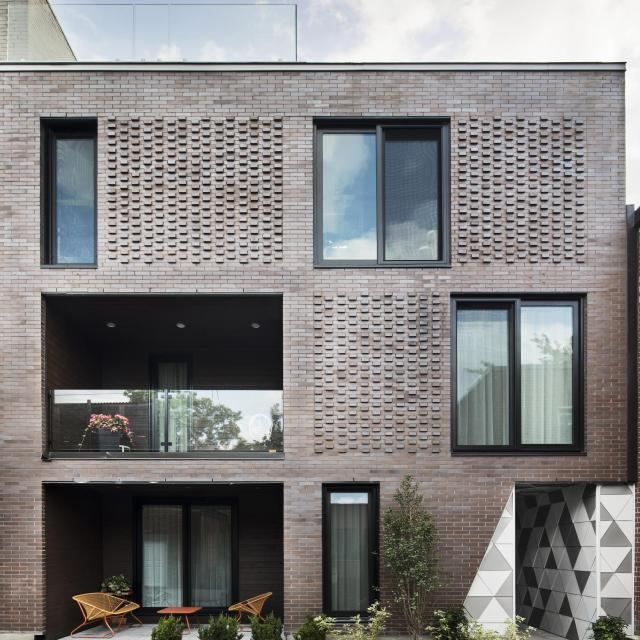door: (132, 504, 243, 620)
railing: (0, 1, 300, 64), (52, 387, 286, 453)
window: (448, 292, 586, 457), (311, 114, 453, 270), (39, 116, 103, 270), (325, 481, 379, 615), (146, 355, 194, 389)
